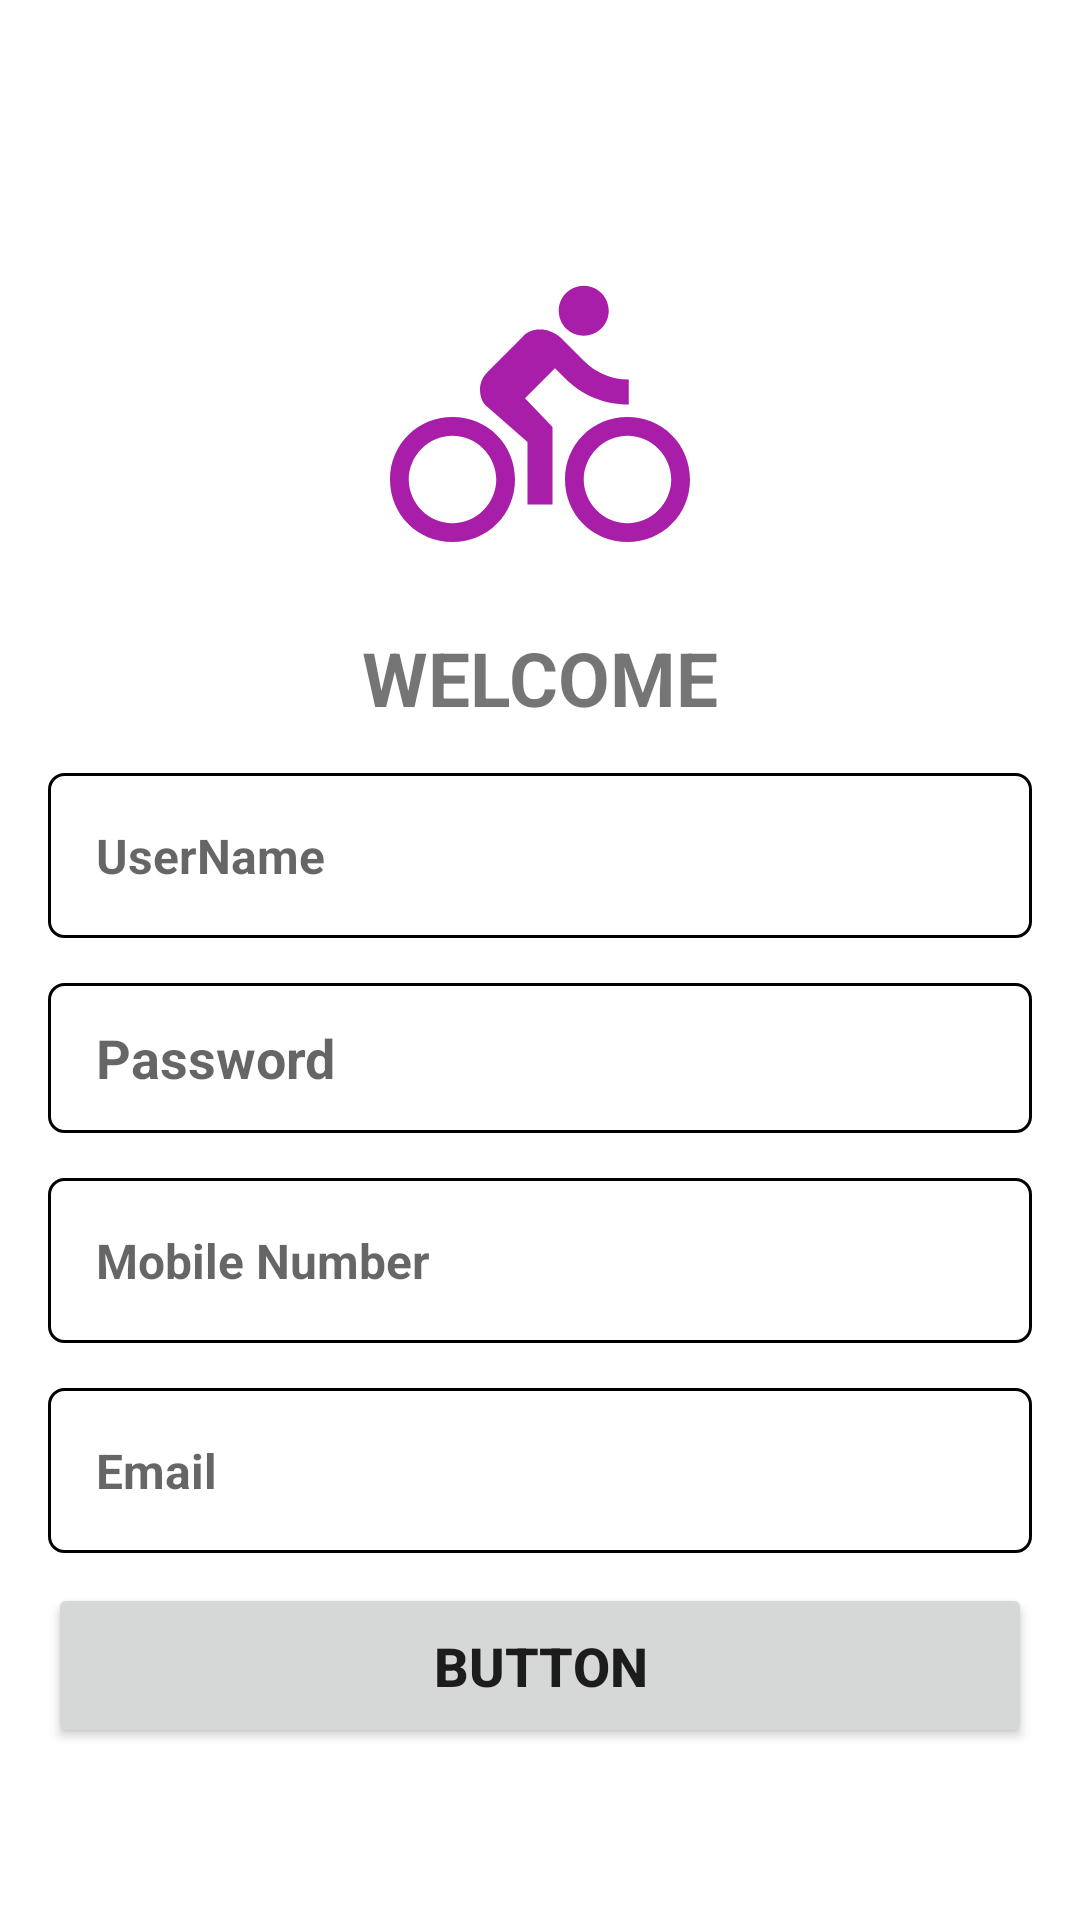

Locate icon controls on the screen. Image size 1080px×1920px, boxes as Rect(x1, y1, x2, y2).
directions bike: Rect(390, 285, 690, 542)
